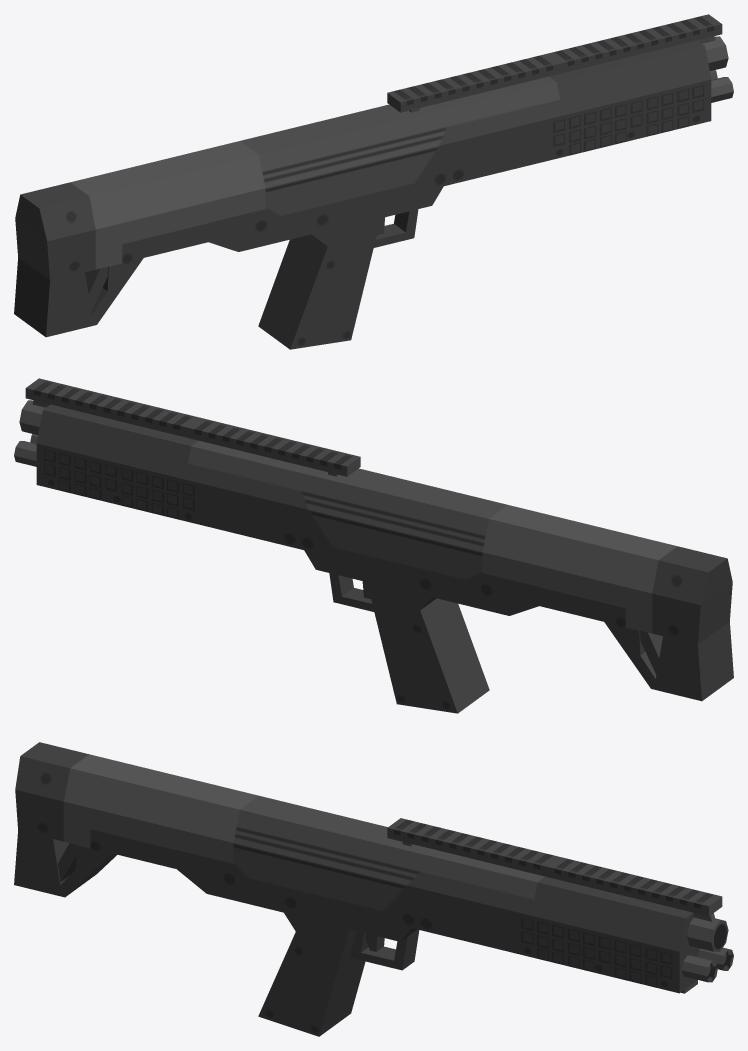
Rendered from KSG.FBX.
3 views of the same model, one above another, from view 1: azimuth 30°, elevation 25°; view 2: azimuth 150°, elevation 25°; view 3: azimuth 330°, elevation 25° (orthographic).
Visible parts, largest first — view 1: KSG; view 2: KSG; view 3: KSG.
Boxes of the visible parts, <box> form: KSG: <box>14,14,733,349</box>; KSG: <box>14,378,733,713</box>; KSG: <box>14,742,733,1036</box>.
Bounding box in the file's own units: 80.19 × 24.03 × 6.42.
